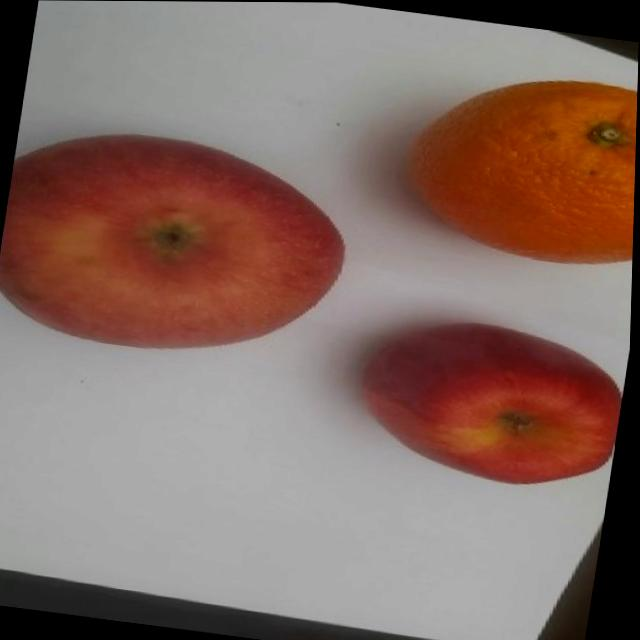Apple: (0, 112, 363, 378), (349, 306, 633, 500)
Orange: (396, 57, 639, 276)
